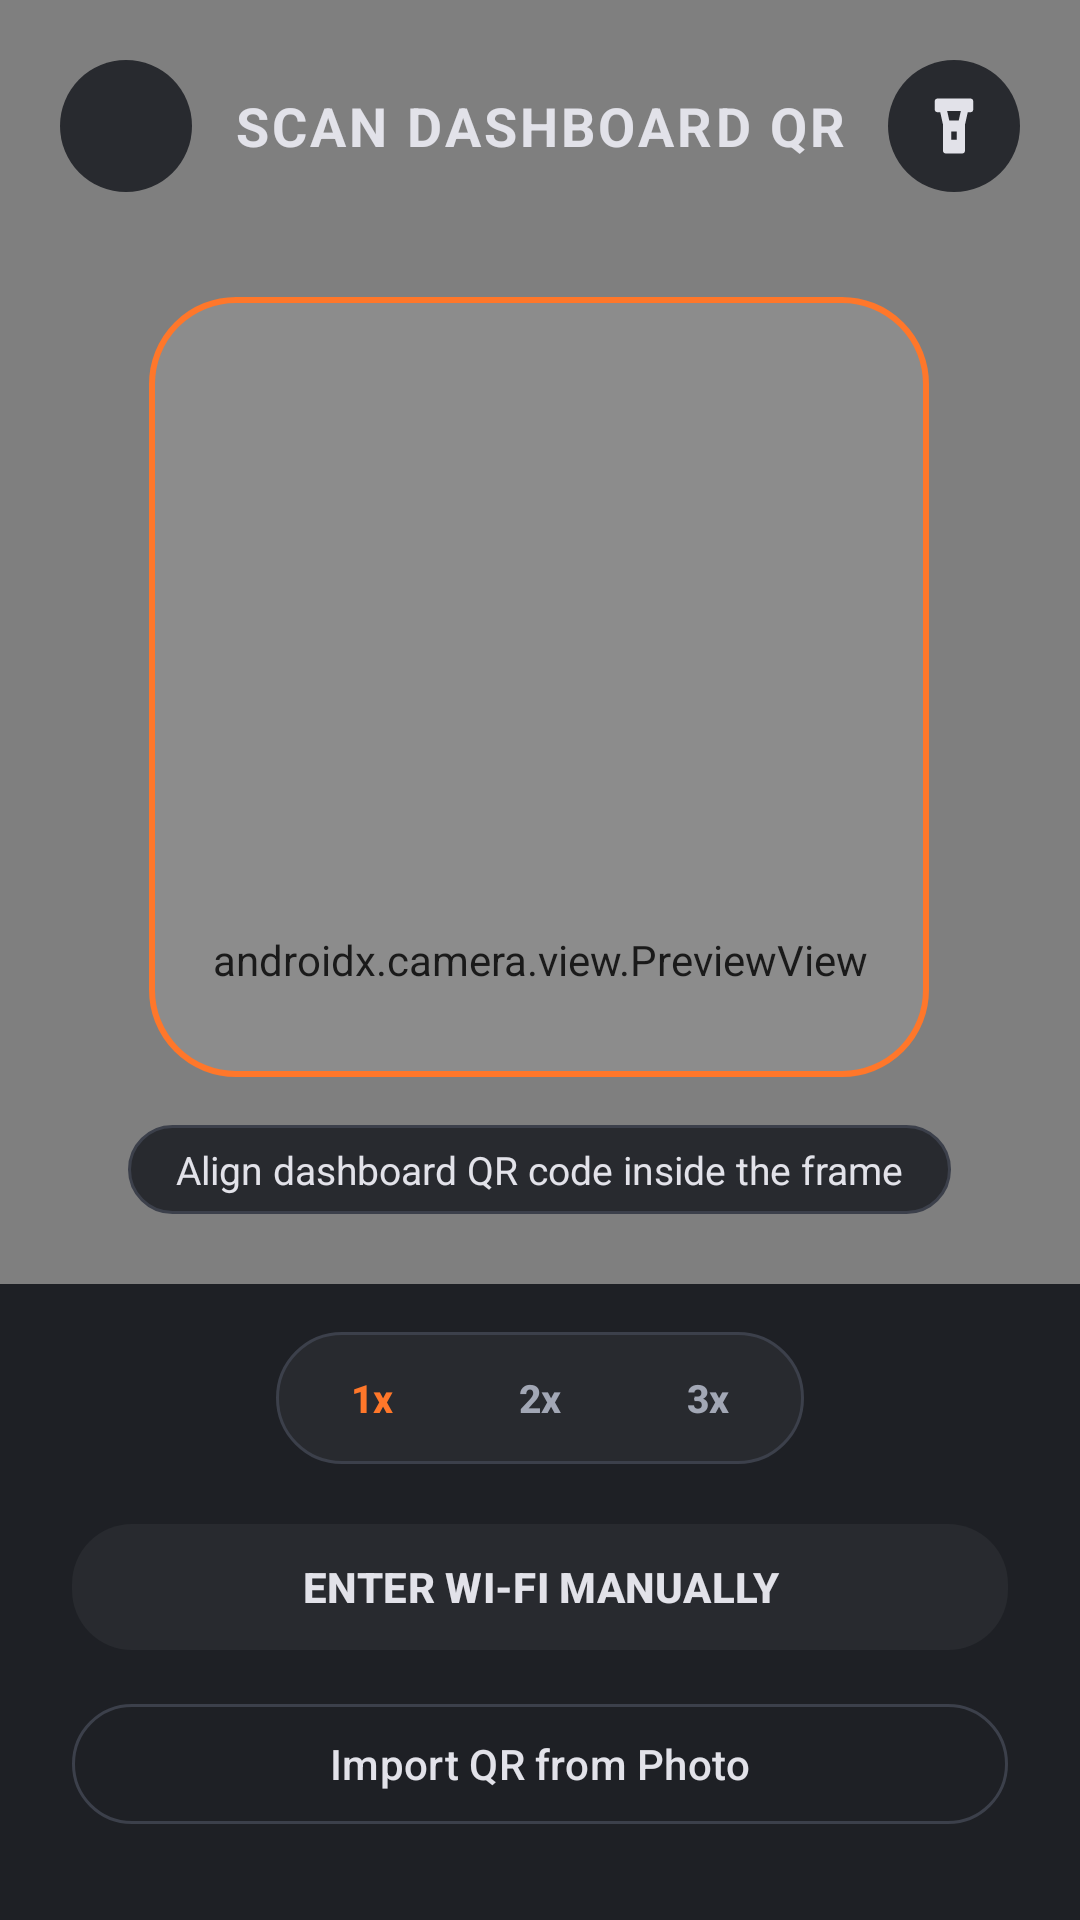

Icons on this 1080 × 1920 Android screen, each with its box as (x1, y1, x2, y2):
Flashlight: (888, 60, 1020, 192)
